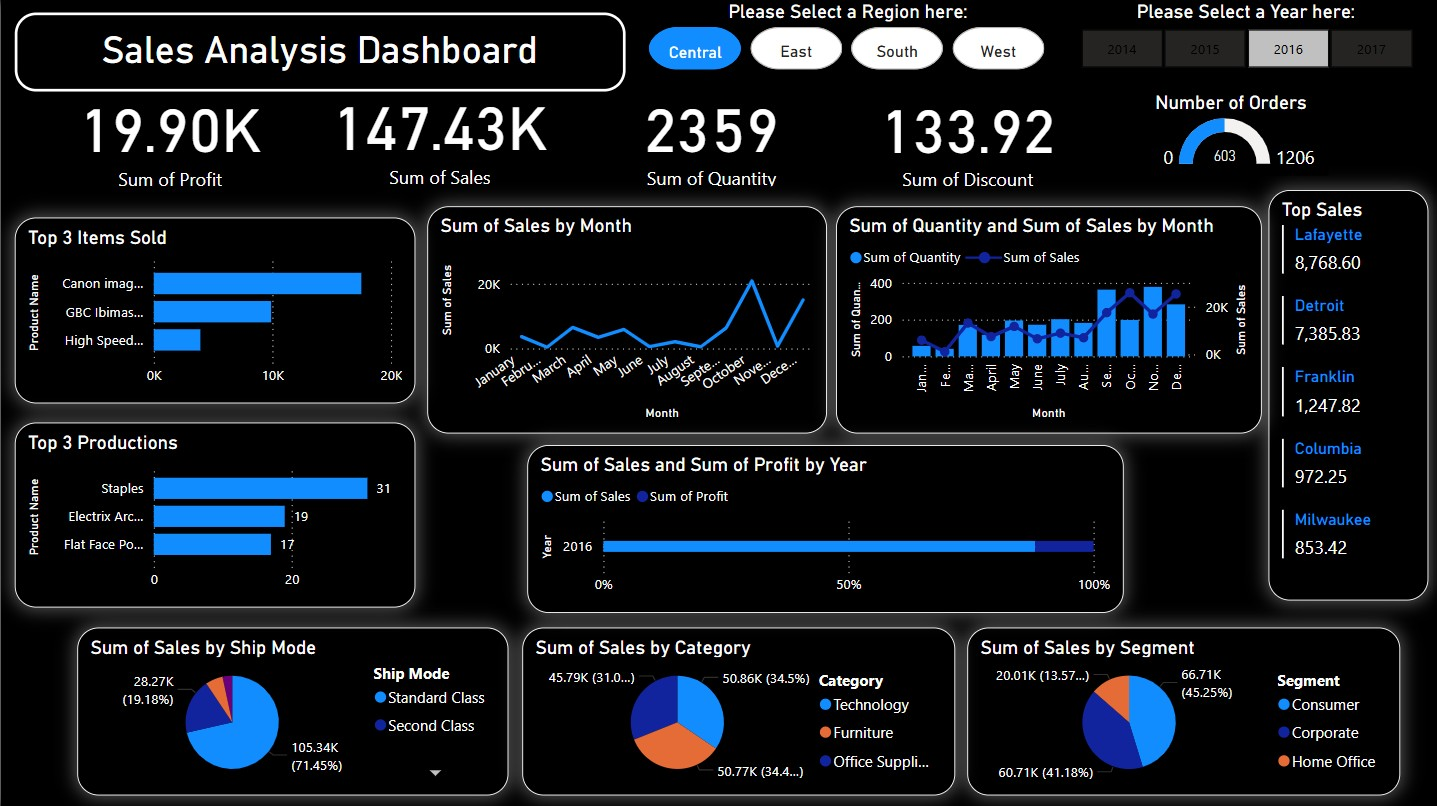

What the dashboard file says about the page in this screenshot:
{"tool":"powerbi","page":{"name":"Page 1","canvas":[1280,720],"ordinal":0},"visuals":[{"type":"card","fields":{"Values":["Sum(sample_-_superstore xls - Orders.Profit)"]},"box":[42.3,70.1,217.1,101.3],"z":0},{"type":"card","fields":{"Values":["Sum(sample_-_superstore xls - Orders.Sales)"]},"box":[273.6,67.5,234.4,101.8],"z":1000},{"type":"card","fields":{"Values":["Sum(sample_-_superstore xls - Orders.Discount)"]},"box":[763.2,69.9,195.1,101.8],"z":2000},{"type":"card","fields":{"Values":["Sum(sample_-_superstore xls - Orders.Quantity)"]},"box":[531.3,68.7,203.7,101.8],"z":3000},{"type":"advancedSlicerVisual","title":"Please Select a Region here: ","fields":{"Values":["sample_-_superstore xls - Orders.Region"]},"box":[572.2,0,363.6,67.2],"z":4000},{"type":"slicer","title":"Please Select a Year here: ","fields":{"Values":["sample_-_superstore xls - Orders.Order Date.Variation.Date Hierarchy.Year"]},"box":[935.9,0,344.4,67.2],"z":5000},{"type":"multiRowCard","title":"Top Sales","fields":{"Values":["Sum(sample_-_superstore xls - Orders.Profit)","sample_-_superstore xls - Orders.City"]},"box":[1128.8,169.3,142.3,365.6],"z":6000},{"type":"lineChart","fields":{"Category":["sample_-_superstore xls - Orders.Order Date.Variation.Date Hierarchy.Month"],"Y":["Sum(sample_-_superstore xls - Orders.Sales)"]},"box":[379.1,184.1,355.8,202.5],"z":7000},{"type":"pieChart","fields":{"Y":["Sum(sample_-_superstore xls - Orders.Sales)"],"Category":["sample_-_superstore xls - Orders.Ship Mode"]},"box":[67.5,558.3,384.1,149.7],"z":8000},{"type":"pieChart","fields":{"Y":["Sum(sample_-_superstore xls - Orders.Sales)"],"Category":["sample_-_superstore xls - Orders.Segment"]},"box":[860.1,558.3,385.3,149.7],"z":9000},{"type":"pieChart","fields":{"Y":["Sum(sample_-_superstore xls - Orders.Sales)"],"Category":["sample_-_superstore xls - Orders.Category"]},"box":[463.8,558.3,385.3,149.7],"z":10000},{"type":"gauge","title":"Number of Orders","fields":{"Y":["CountNonNull(sample_-_superstore xls - Orders.Postal Code)"]},"box":[1023.3,81,159.5,74.8],"z":11000},{"type":"lineStackedColumnComboChart","fields":{"Category":["sample_-_superstore xls - Orders.Order Date.Variation.Date Hierarchy.Month"],"Y":["Sum(sample_-_superstore xls - Orders.Quantity)"],"Y2":["Sum(sample_-_superstore xls - Orders.Sales)"]},"box":[743.6,184.1,379.1,202.5],"z":12000},{"type":"barChart","title":"Top 3 Items Sold","fields":{"Category":["sample_-_superstore xls - Orders.Product Name"],"Y":["Sum(sample_-_superstore xls - Orders.Sales)"]},"box":[12.3,193.9,357.1,165.6],"z":13000},{"type":"barChart","title":"Top 3 Productions","fields":{"Category":["sample_-_superstore xls - Orders.Product Name"],"Y":["Sum(sample_-_superstore xls - Orders.Quantity)"]},"box":[12.3,376.7,357.1,165],"z":14000},{"type":"hundredPercentStackedBarChart","fields":{"Category":["sample_-_superstore xls - Orders.Order Date.Variation.Date Hierarchy.Year","sample_-_superstore xls - Orders.Order Date.Variation.Date Hierarchy.Quarter"],"Y":["Sum(sample_-_superstore xls - Orders.Sales)","Sum(sample_-_superstore xls - Orders.Profit)"]},"box":[468.7,396.3,531.3,149.7],"z":15000},{"type":"textbox","box":[12.2,11.1,544.3,70.1],"z":15001}]}

Visuals, with their boxes in screenshot pixels (x1, y1, x2, y2), scaled from the page's 1280x720 canvas onto the 1437x806 screenshot:
card - Sum(sample_-_superstore xls - Orders.Profit): bbox(47, 78, 291, 192)
card - Sum(sample_-_superstore xls - Orders.Sales): bbox(307, 76, 570, 190)
card - Sum(sample_-_superstore xls - Orders.Discount): bbox(857, 78, 1076, 192)
card - Sum(sample_-_superstore xls - Orders.Quantity): bbox(596, 77, 825, 191)
"Please Select a Region here: " advancedSlicerVisual: bbox(642, 0, 1051, 75)
"Please Select a Year here: " slicer: bbox(1051, 0, 1436, 75)
"Top Sales" multiRowCard: bbox(1267, 190, 1427, 599)
lineChart - sample_-_superstore xls - Orders.Order Date.Variation.Date Hierarchy.Month x Sum(sample_-_superstore xls - Orders.Sales): bbox(426, 206, 825, 433)
pieChart - Sum(sample_-_superstore xls - Orders.Sales) x sample_-_superstore xls - Orders.Ship Mode: bbox(76, 625, 507, 793)
pieChart - Sum(sample_-_superstore xls - Orders.Sales) x sample_-_superstore xls - Orders.Segment: bbox(966, 625, 1398, 793)
pieChart - Sum(sample_-_superstore xls - Orders.Sales) x sample_-_superstore xls - Orders.Category: bbox(521, 625, 953, 793)
"Number of Orders" gauge: bbox(1149, 91, 1328, 174)
lineStackedColumnComboChart - sample_-_superstore xls - Orders.Order Date.Variation.Date Hierarchy.Month x Sum(sample_-_superstore xls - Orders.Quantity): bbox(835, 206, 1260, 433)
"Top 3 Items Sold" barChart: bbox(14, 217, 415, 402)
"Top 3 Productions" barChart: bbox(14, 422, 415, 606)
hundredPercentStackedBarChart - sample_-_superstore xls - Orders.Order Date.Variation.Date Hierarchy.Year x sample_-_superstore xls - Orders.Order Date.Variation.Date Hierarchy.Quarter: bbox(526, 444, 1123, 611)
textbox: bbox(14, 12, 625, 91)
